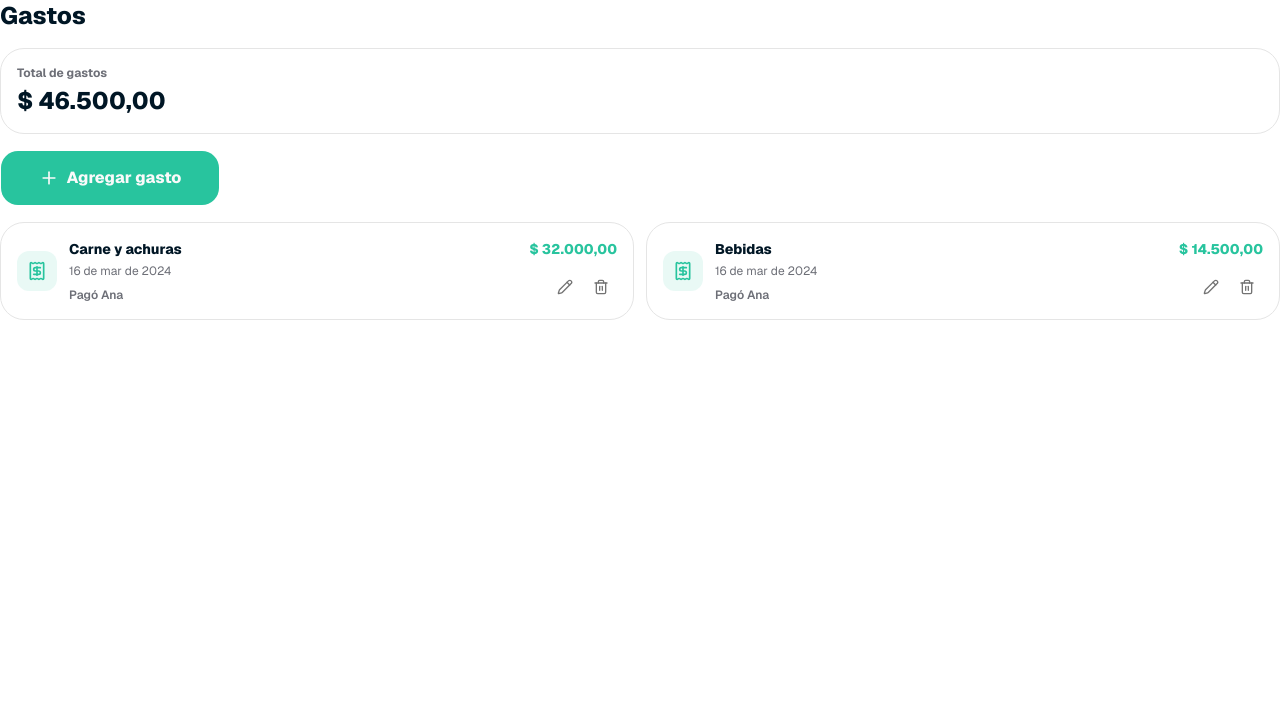
Test: EventExpenses — eliminar gasto › confirmar saca el gasto de la lista, recalcula el total y avisa sin recargar
The width and height of the screenshot is (1280, 720).
Click the button named "Eliminar gasto Carne y achuras".
click(601, 287)  # box [585,271,617,303]
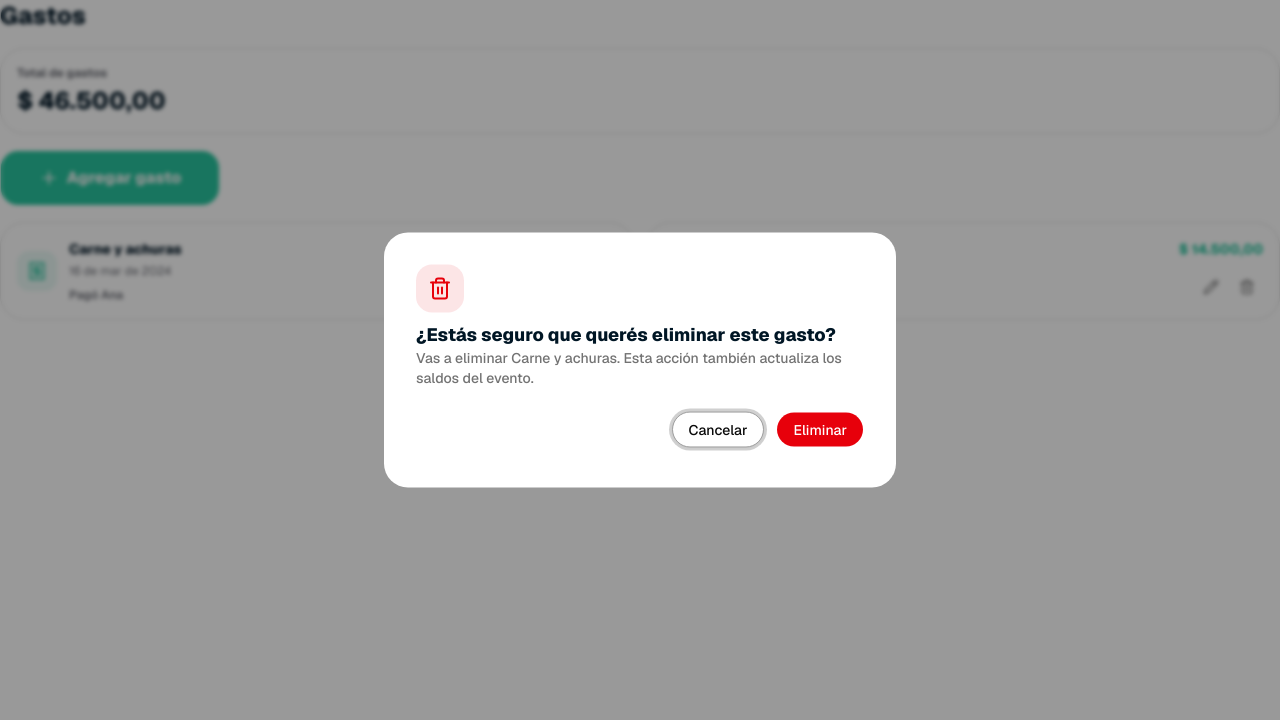
Click the button "Eliminar".
click(820, 430)  # box [776,412,864,448]
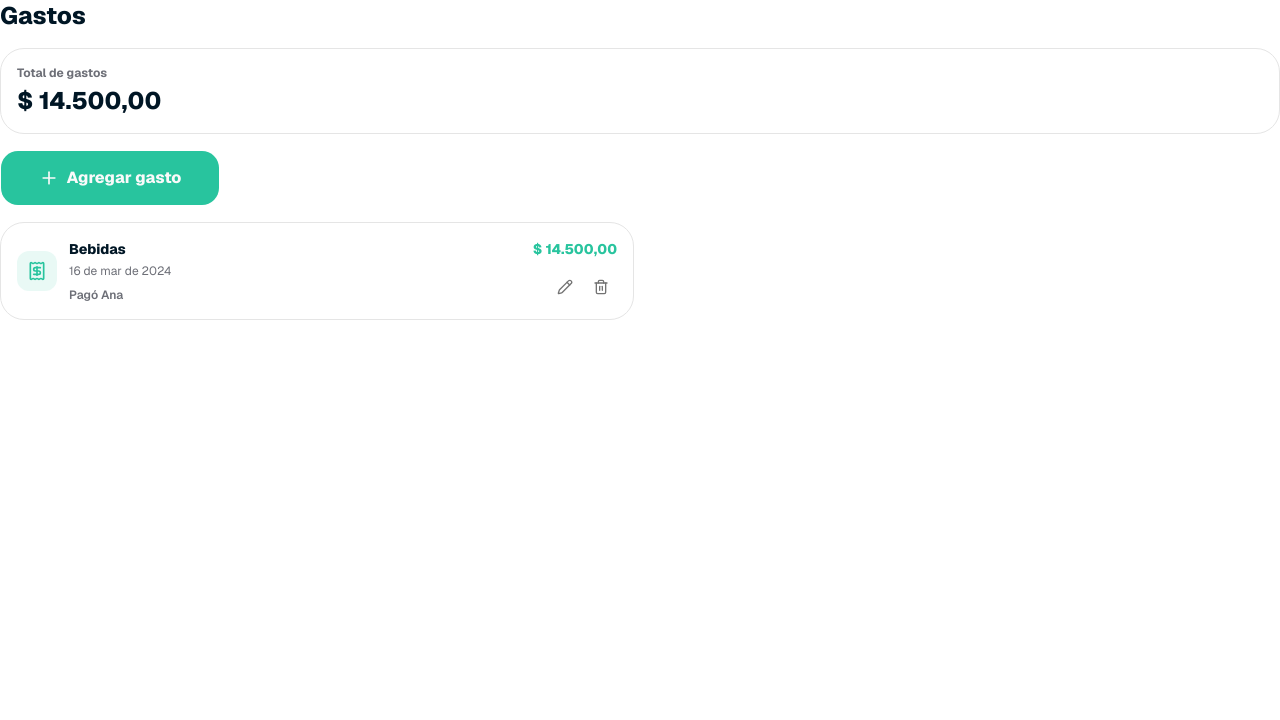
Expected: the heading "Bebidas" is shown, [69,240,126,258]
Expected: the heading "Carne y achuras" is gone
Expected: the dialog is gone
